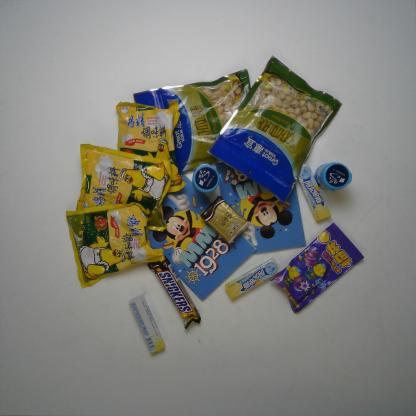Candy: (270, 222, 364, 314), (224, 256, 280, 300), (129, 294, 165, 356), (298, 162, 330, 223)
Chocolate: (146, 254, 201, 330)
Dried Fruit: (207, 55, 343, 205), (132, 69, 250, 173)
Gum: (314, 161, 354, 193), (192, 161, 222, 194)
Seasoner: (64, 200, 166, 290), (74, 142, 172, 233), (114, 98, 188, 194)
Stationery: (143, 174, 257, 302), (214, 159, 307, 255)
Tissue: (200, 193, 248, 245)
